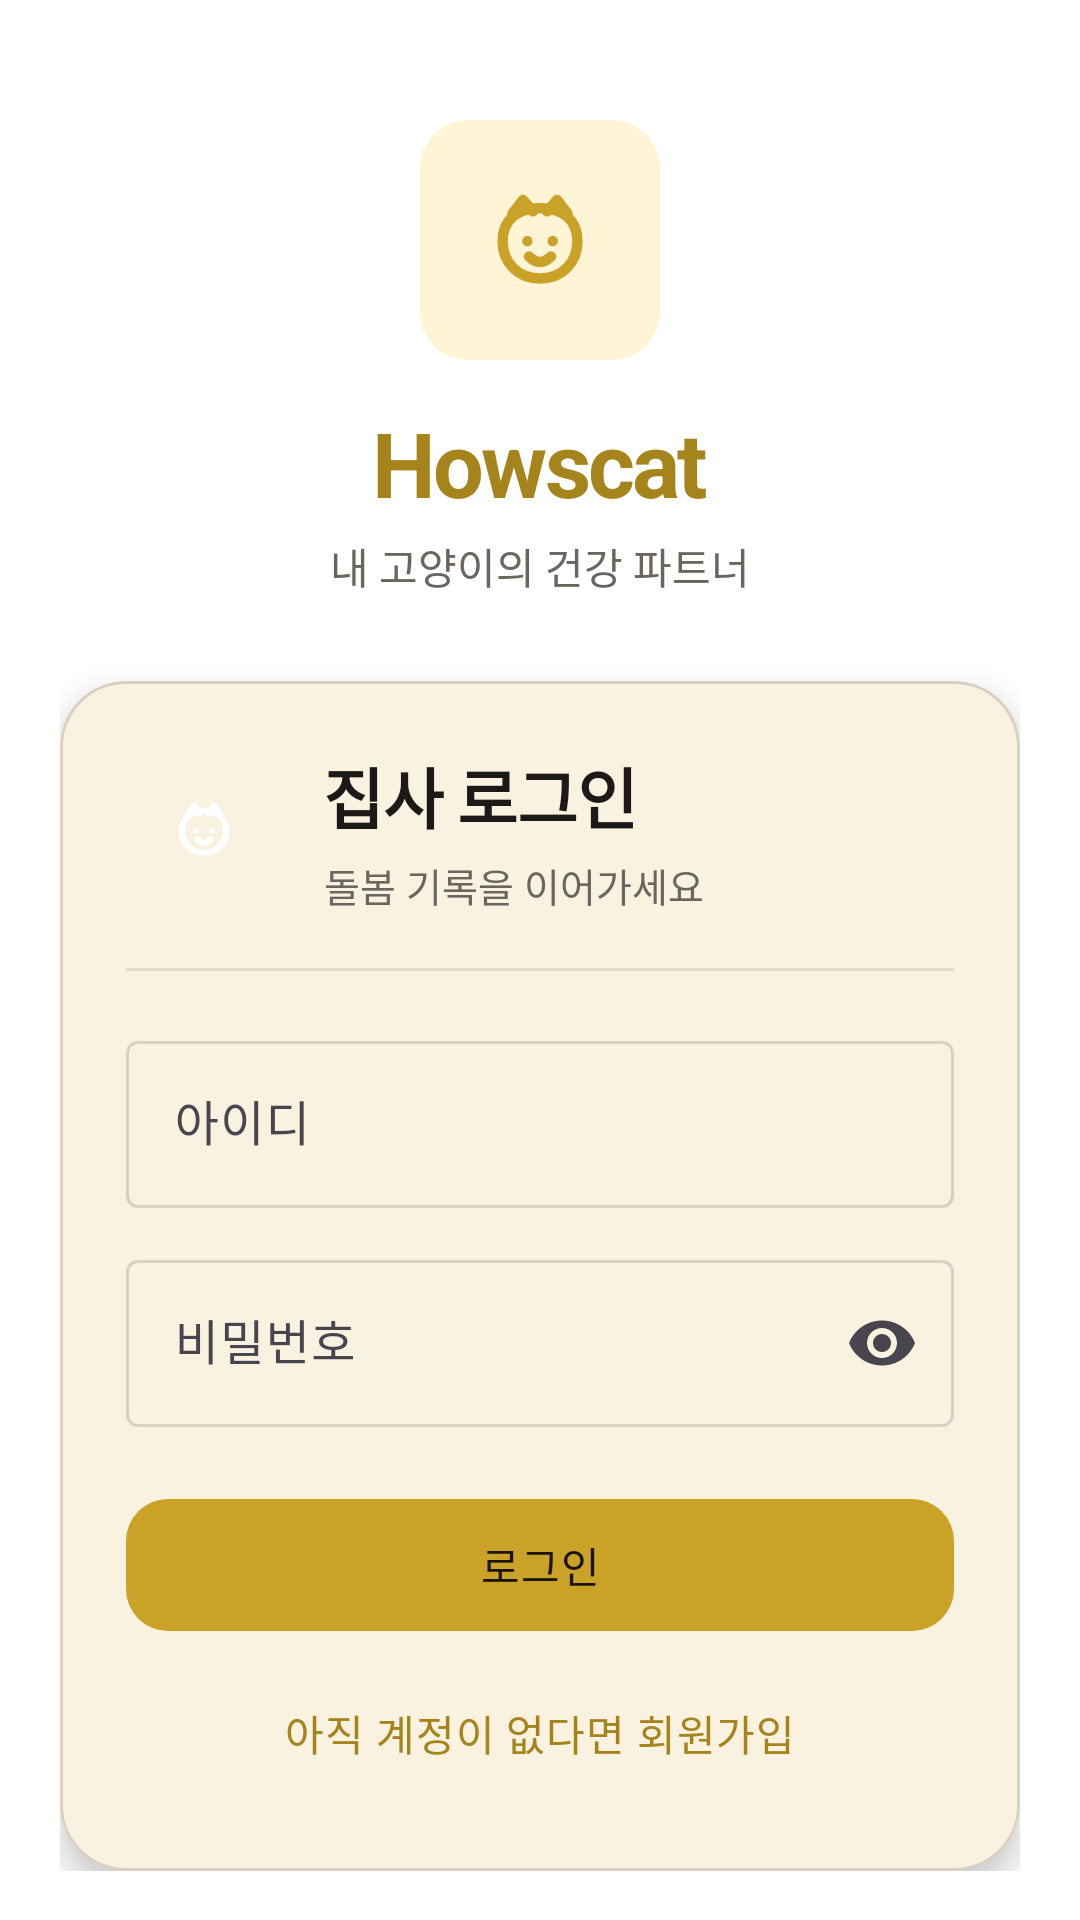

Icon bounding boxes for this 1080px x 1920px phone screenshot, format rect(x1, y1, x2, y2):
cat: rect(497, 194, 583, 284), rect(179, 803, 229, 855)
